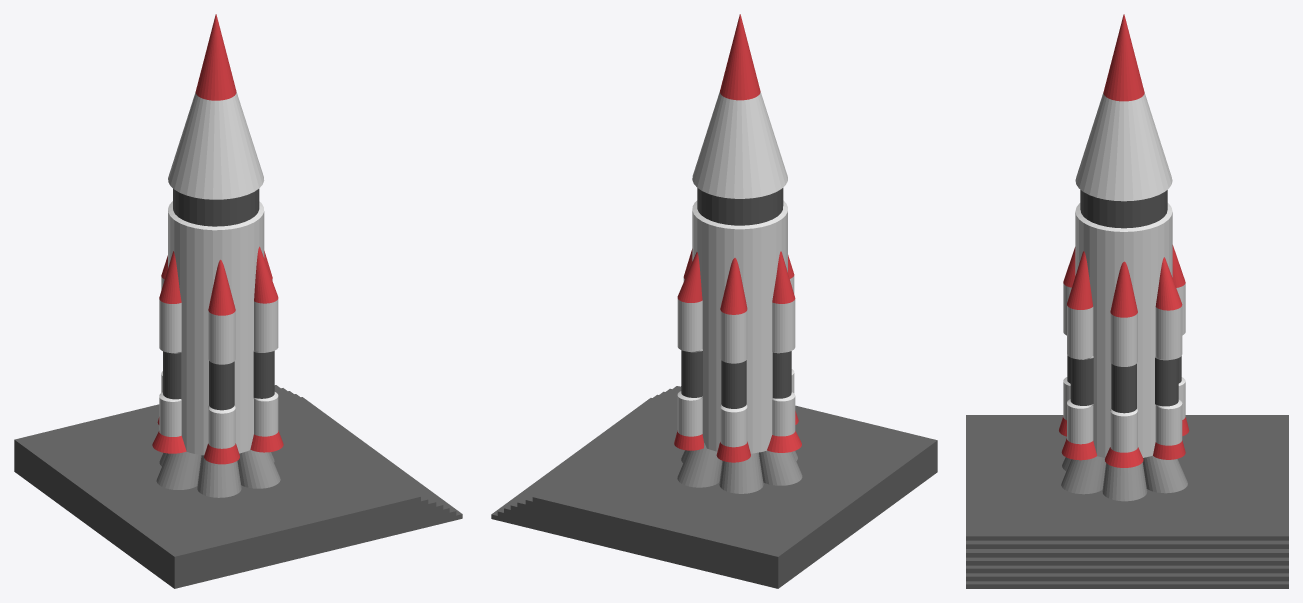
The model's file is rocket.fbx.
The picture shows the model from 3 angles, left to right: view 1: azimuth 30°, elevation 25°; view 2: azimuth 150°, elevation 25°; view 3: azimuth 270°, elevation 25°; orthographic projection.
Parts seen in each view (by area): view 1: Cube.001, Cylinder.001; view 2: Cube.001, Cylinder.001; view 3: Cube.001, Cylinder.001.
Boxes of the visible parts, <box> form: Cube.001: <box>14,385,462,588</box>; Cylinder.001: <box>152,14,283,497</box>; Cube.001: <box>491,386,937,588</box>; Cylinder.001: <box>674,14,802,493</box>; Cube.001: <box>966,415,1288,588</box>; Cylinder.001: <box>1059,14,1189,501</box>.
Size of the model in its own units: 6805 by 11019 by 6552.
